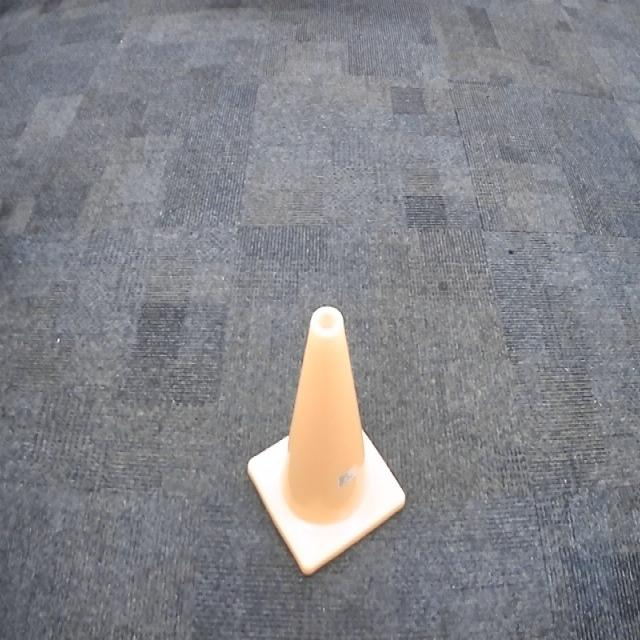cone: (247, 305, 409, 579)
